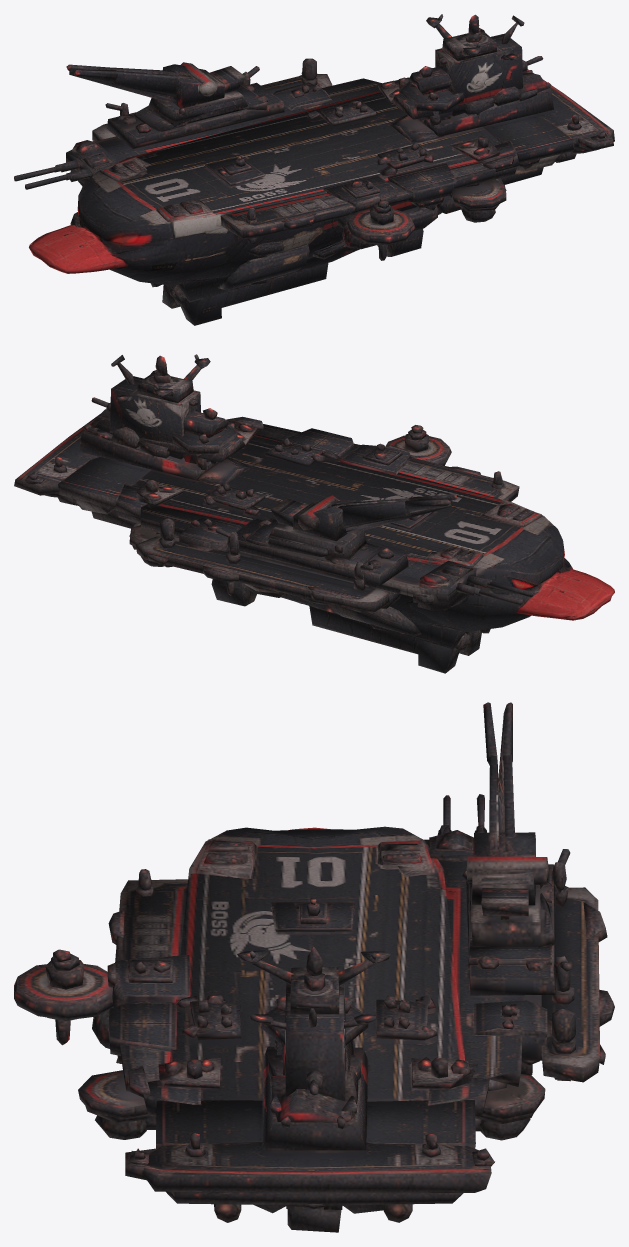
File: boat.glb
3 views of the same model, one above another, from view 1: azimuth 30°, elevation 25°; view 2: azimuth 150°, elevation 25°; view 3: azimuth 270°, elevation 25° (orthographic). The views are drawn at different scales.
Parts seen in each view (by area): view 1: mesh_node; view 2: mesh_node; view 3: mesh_node.
Part boxes in pixels (bbox=[...]): mesh_node: bbox=[14, 14, 614, 325]; mesh_node: bbox=[14, 354, 614, 673]; mesh_node: bbox=[14, 702, 614, 1232].
Size of the model in its own units: 1 by 0.416 by 0.6328.
Materials: 1 (1 with a texture image).
